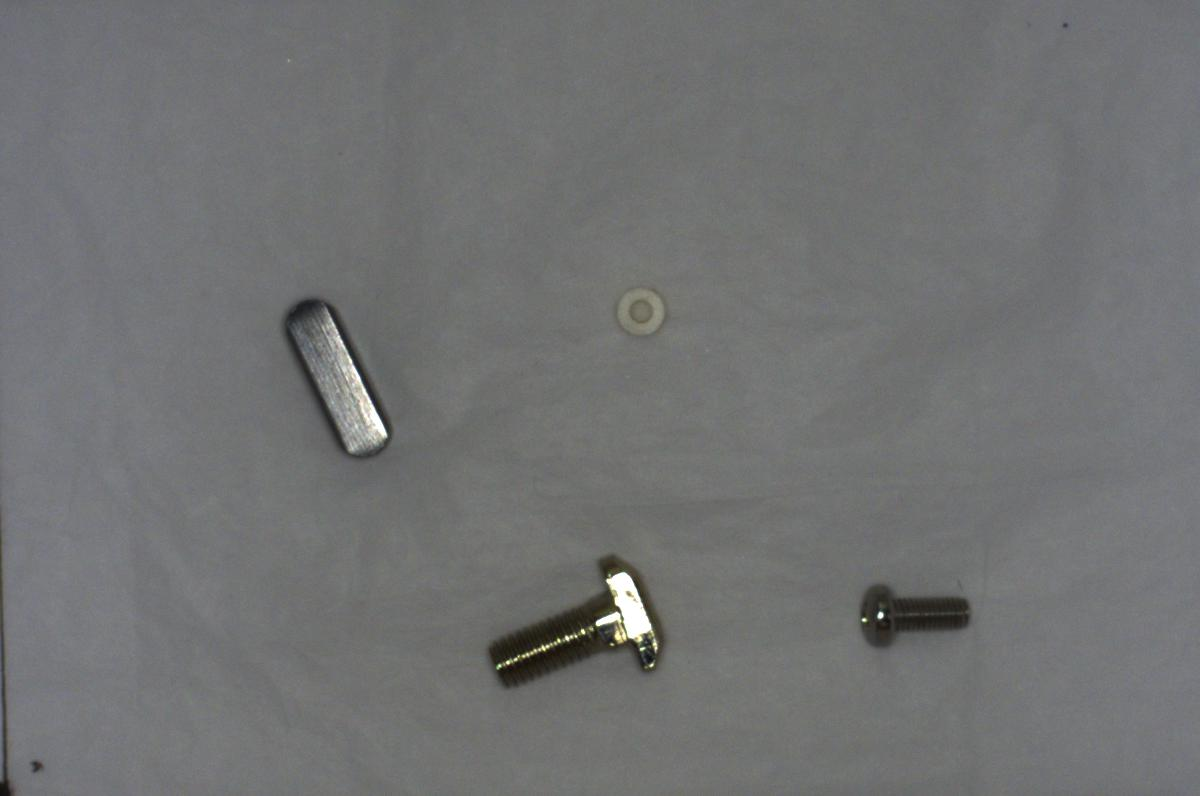Keybar: (284, 282, 406, 472)
Plastic cushion pillar: (604, 273, 672, 347)
Round head screw: (847, 576, 974, 652)
T-shaped screw: (465, 550, 675, 698)
